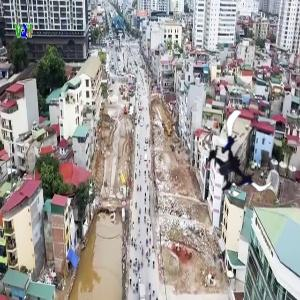drone: (196, 121, 281, 206)
